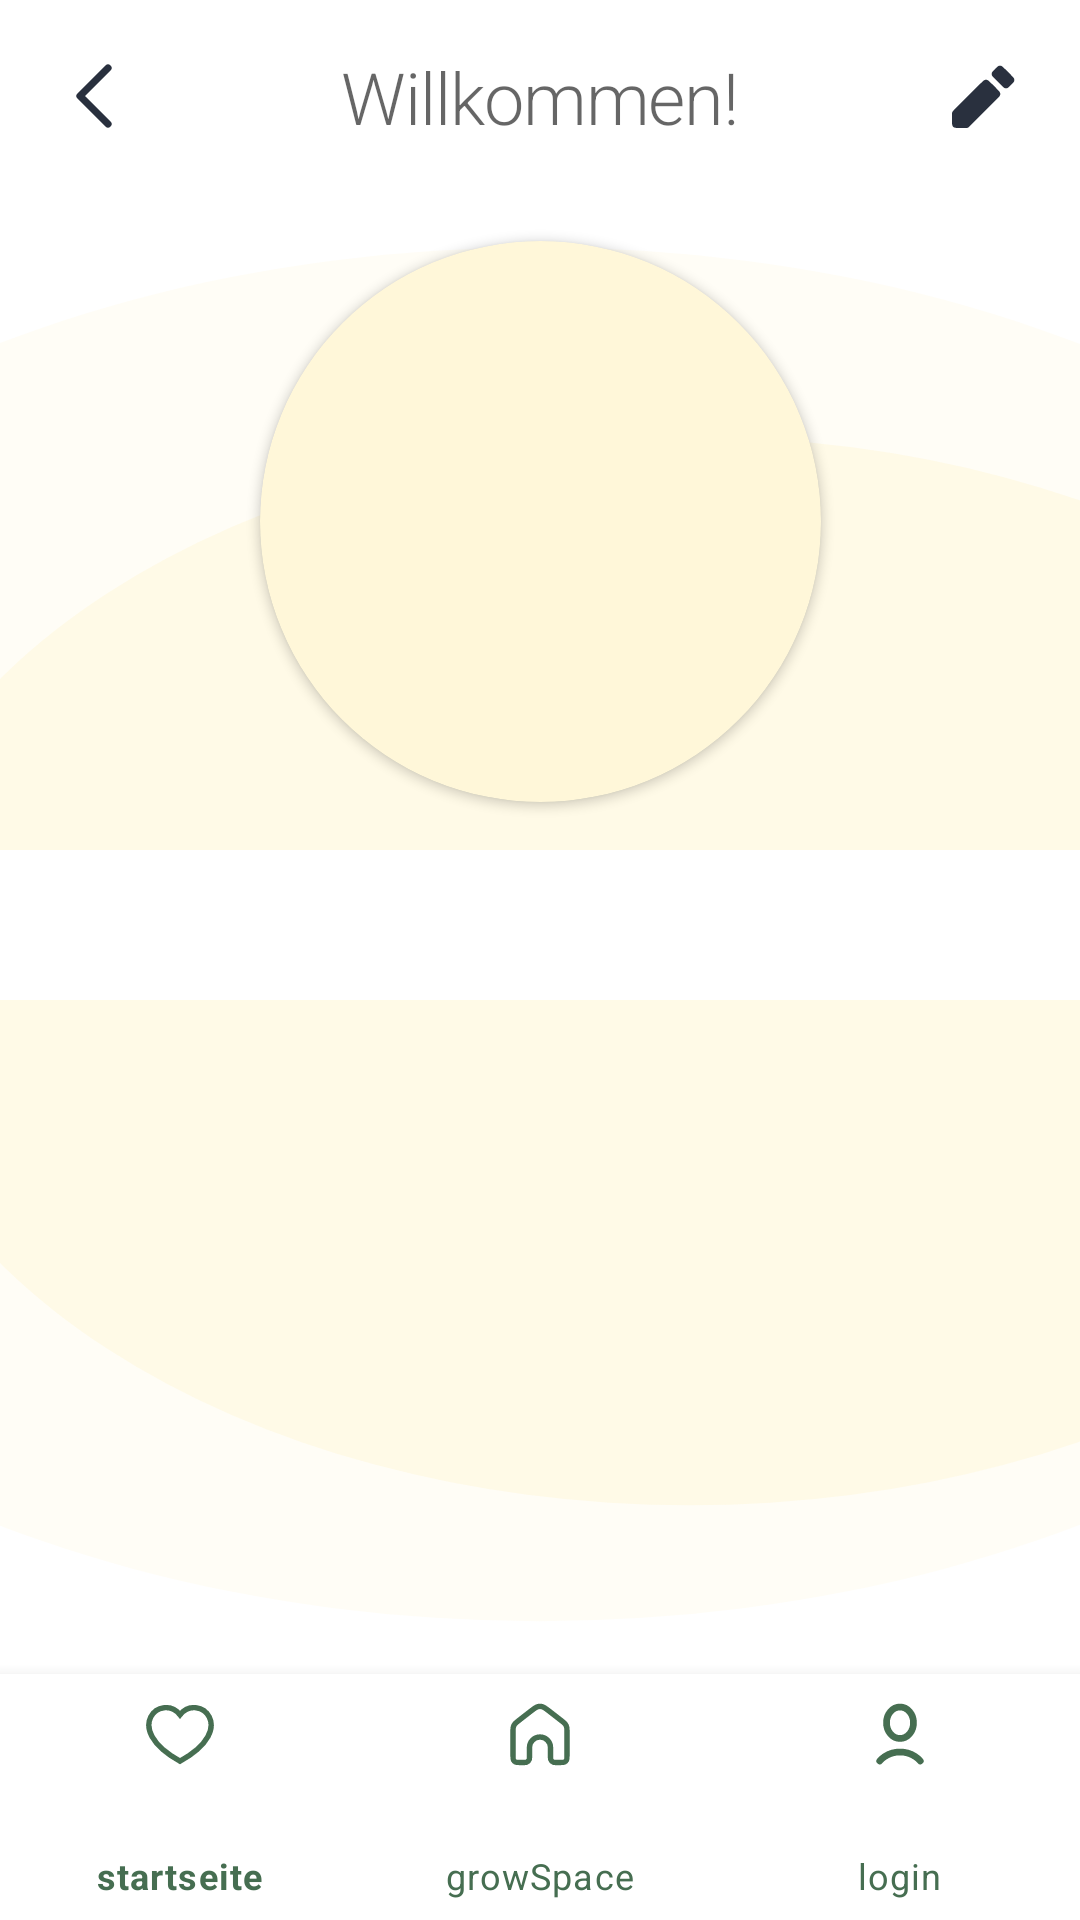

Named icons in this screenshot (1080w x 1920h) and their bounding boxes, (x1, y1, x2, y2):
edit: (952, 65, 1015, 128)
left: (76, 64, 112, 128)
